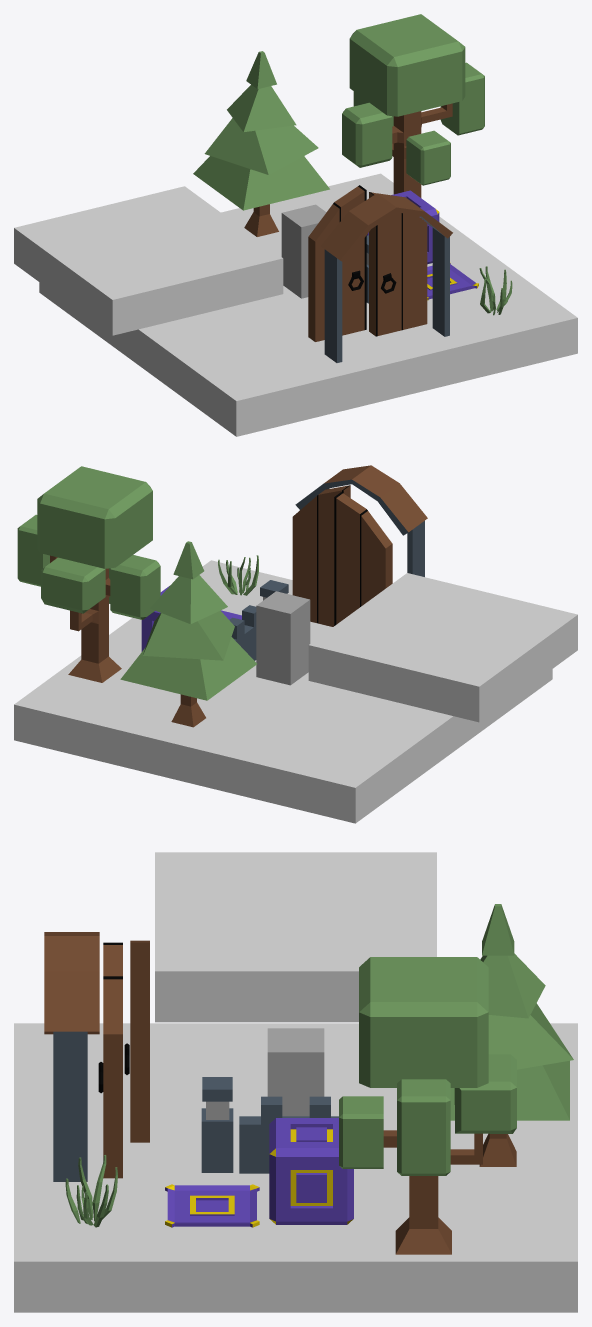
File: knight_assets.fbx
The picture shows the model from 3 angles, top to bottom: view 1: azimuth 30°, elevation 25°; view 2: azimuth 150°, elevation 25°; view 3: azimuth 270°, elevation 25°; orthographic projection. The views are drawn at different scales.
Visible parts, largest first — view 1: StageBig, StageSmall, Tree, Cube.001, DoorFrame, DoorR, DoorL, Cube, Grass, BlockPlat, Block; view 2: StageBig, StageSmall, Tree, Cube.001, DoorL, DoorR, Cube, DoorFrame, Wall, Grass; view 3: StageBig, StageSmall, Tree, Cube.001, DoorFrame, Block, DoorR, Cube, DoorL, BlockPlat, WallPost, Wall (+1 smaller).
Part boxes in pixels (bbox=[...]): StageBig: bbox=[39, 173, 577, 436]; StageSmall: bbox=[14, 186, 283, 335]; Tree: bbox=[342, 14, 484, 197]; Cube.001: bbox=[193, 51, 329, 236]; DoorFrame: bbox=[321, 193, 452, 362]; DoorR: bbox=[369, 192, 427, 336]; DoorL: bbox=[308, 185, 366, 341]; Cube: bbox=[281, 204, 326, 298]; Grass: bbox=[479, 266, 512, 315]; BlockPlat: bbox=[427, 262, 478, 300]; Block: bbox=[366, 190, 439, 264]; StageBig: bbox=[14, 560, 552, 823]; StageSmall: bbox=[308, 573, 577, 722]; Tree: bbox=[17, 466, 160, 682]; Cube.001: bbox=[120, 541, 256, 727]; DoorL: bbox=[334, 492, 392, 625]; DoorR: bbox=[292, 485, 350, 626]; Cube: bbox=[256, 591, 310, 685]; DoorFrame: bbox=[295, 465, 427, 576]; Wall: bbox=[229, 605, 256, 660]; Grass: bbox=[218, 555, 258, 595]; StageBig: bbox=[14, 1023, 577, 1312]; StageSmall: bbox=[155, 852, 436, 1022]; Tree: bbox=[339, 957, 516, 1254]; Cube.001: bbox=[450, 904, 573, 1166]; DoorFrame: bbox=[44, 932, 99, 1181]; Block: bbox=[269, 1118, 353, 1224]; DoorR: bbox=[98, 942, 122, 1178]; Cube: bbox=[267, 1028, 324, 1116]; DoorL: bbox=[124, 940, 149, 1142]; BlockPlat: bbox=[165, 1184, 259, 1227]; WallPost: bbox=[201, 1077, 233, 1172]; Wall: bbox=[239, 1096, 338, 1173].
Bounding box in the file's own units: 2686 × 1230 × 2000.
